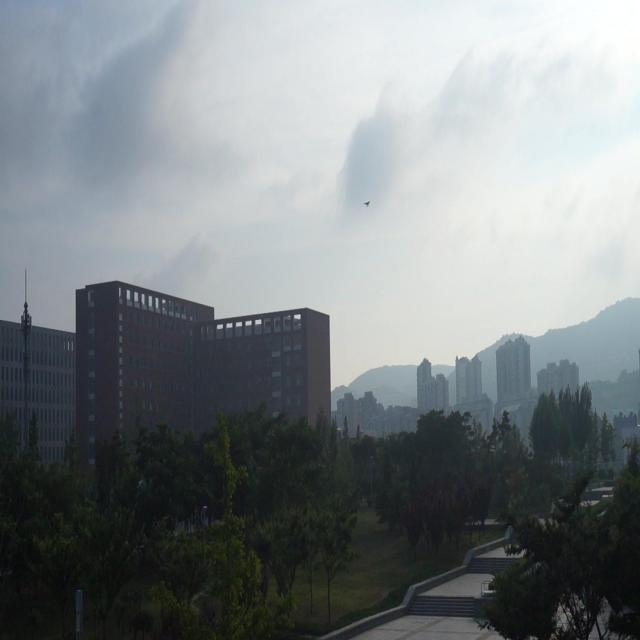UAV: (363, 201, 371, 207)
